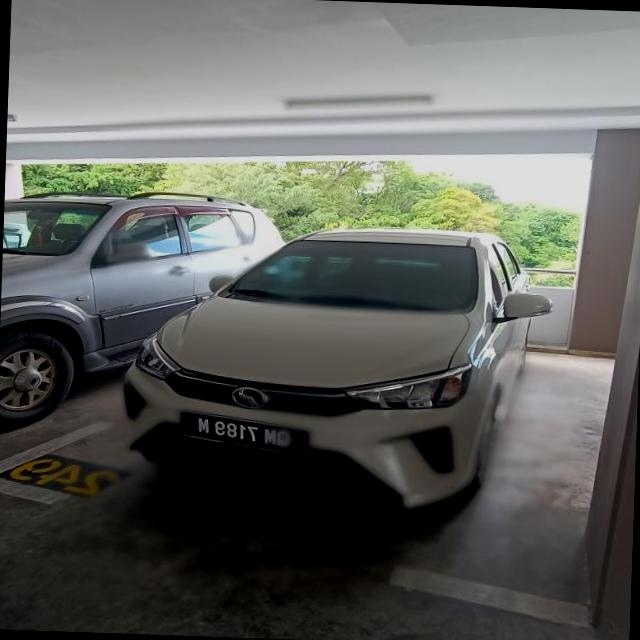PeroduaBezza: (117, 216, 556, 515)
